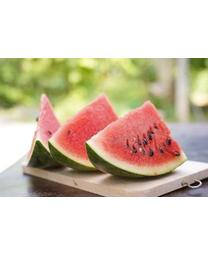watermelon: (21, 91, 189, 178)
